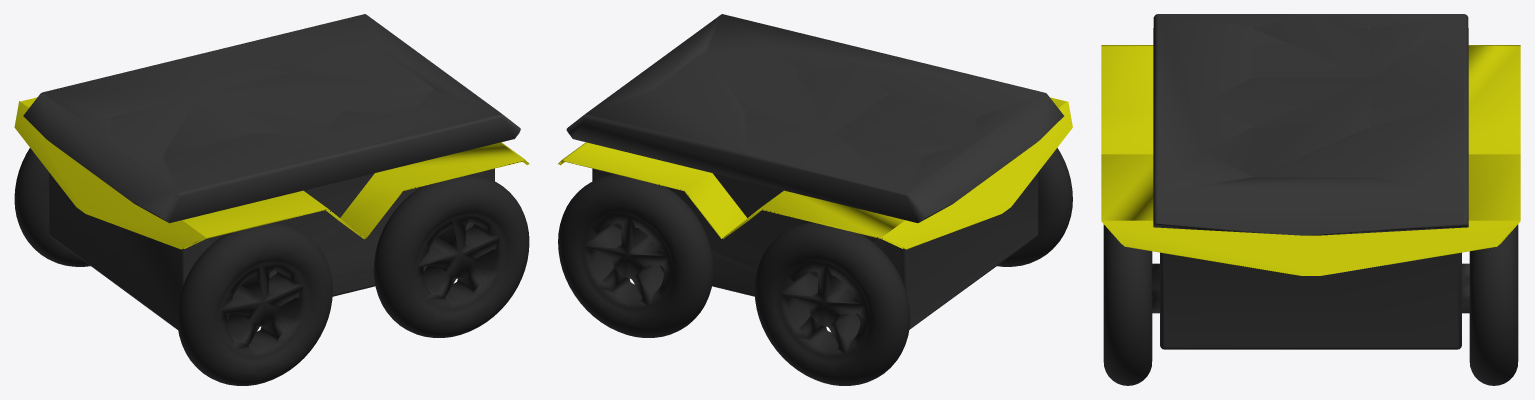
Rendered from jackal.glb.
3 views of the same model, side by side, from view 1: azimuth 30°, elevation 25°; view 2: azimuth 150°, elevation 25°; view 3: azimuth 270°, elevation 25° (orthographic). The views are drawn at different scales.
Visible parts, largest first — view 1: chassis, wheel, fender; view 2: chassis, wheel, fender; view 3: chassis, fender, wheel.
Part boxes in pixels (x1,y1,x2,y2): chassis: (23,14,520,329); wheel: (14,148,529,385); fender: (14,97,529,249); chassis: (566,14,1063,329); wheel: (558,148,1072,385); fender: (558,97,1072,249); chassis: (1152,14,1469,349); fender: (1101,45,1520,275); wheel: (1103,224,1518,385).
Bounding box in the file's own units: 0.5106 × 0.2493 × 0.43.
